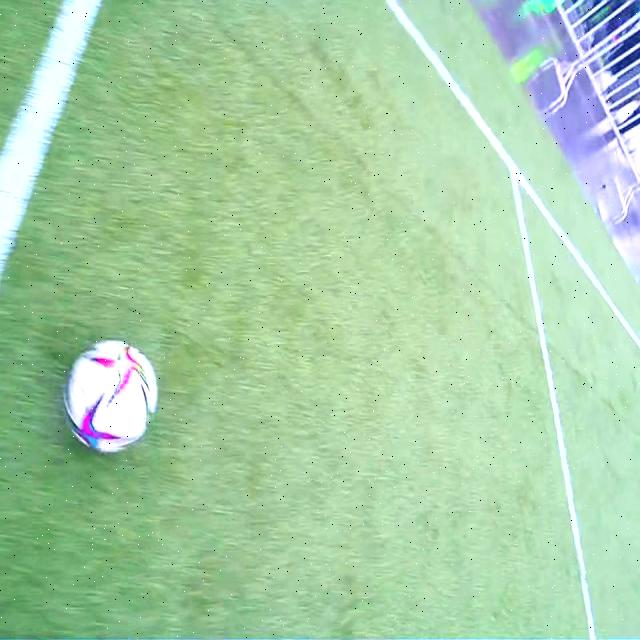ball: (63, 338, 158, 452)
